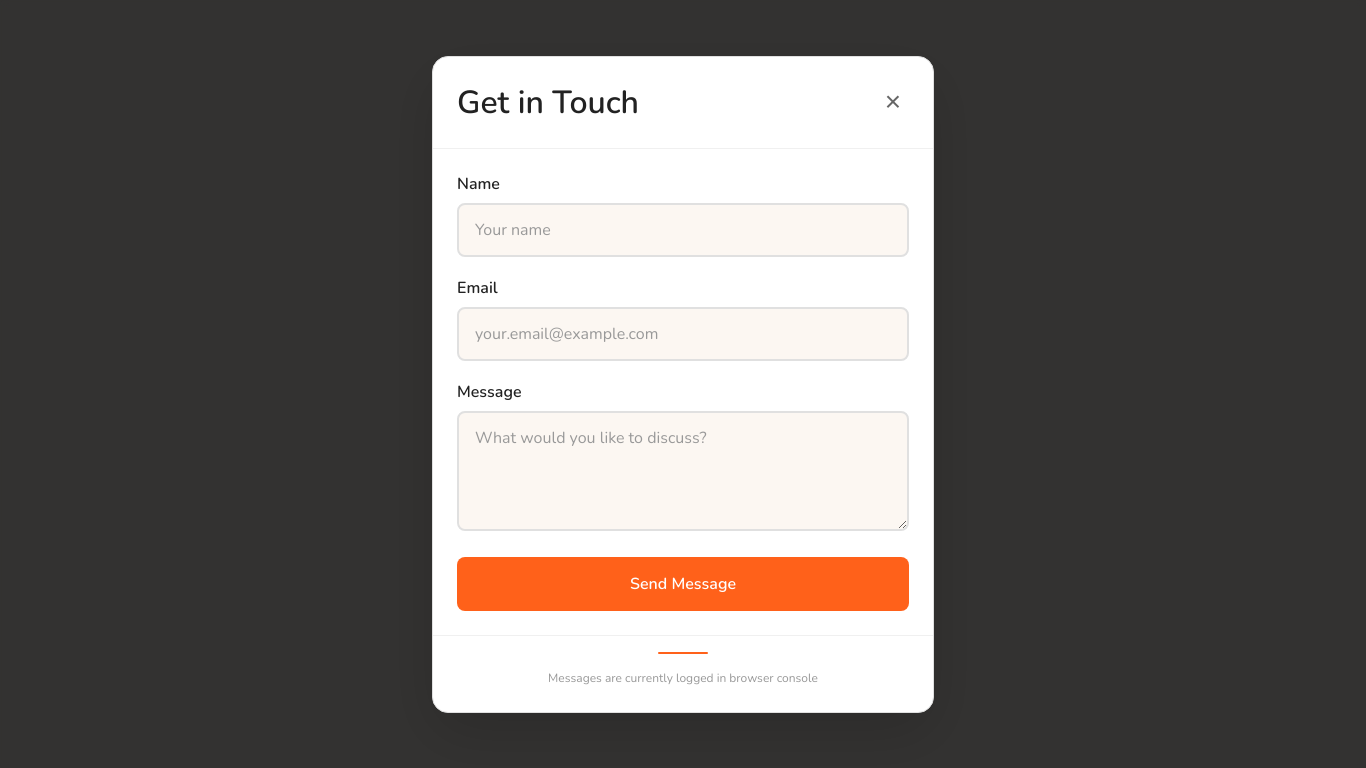
Test case: ContactModal Component › should show loading state during submission
Type "John Doe" into the field labelled "Name" at {"x": 683, "y": 230}, box [457,202,909,256]
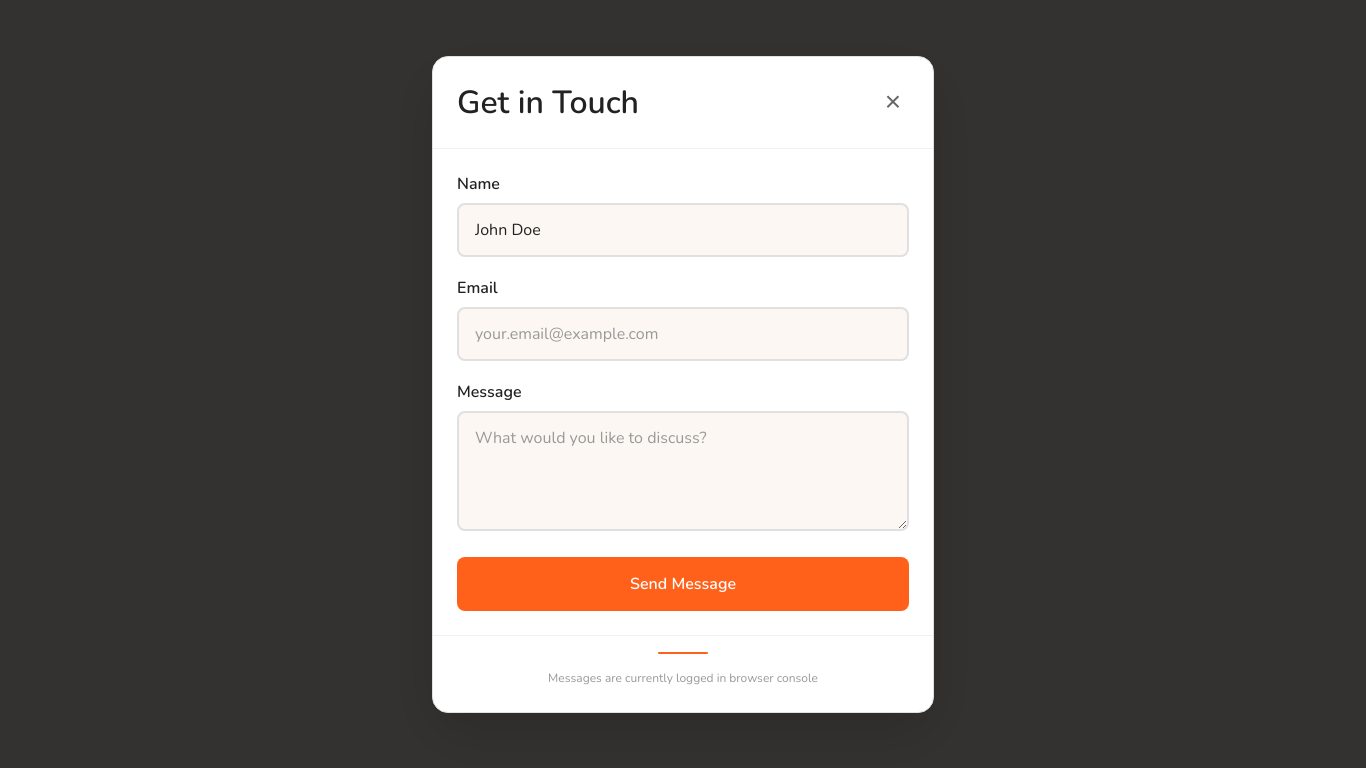
Type "john@example.com" into the field labelled "Email" at {"x": 683, "y": 334}, box [457,306,909,360]
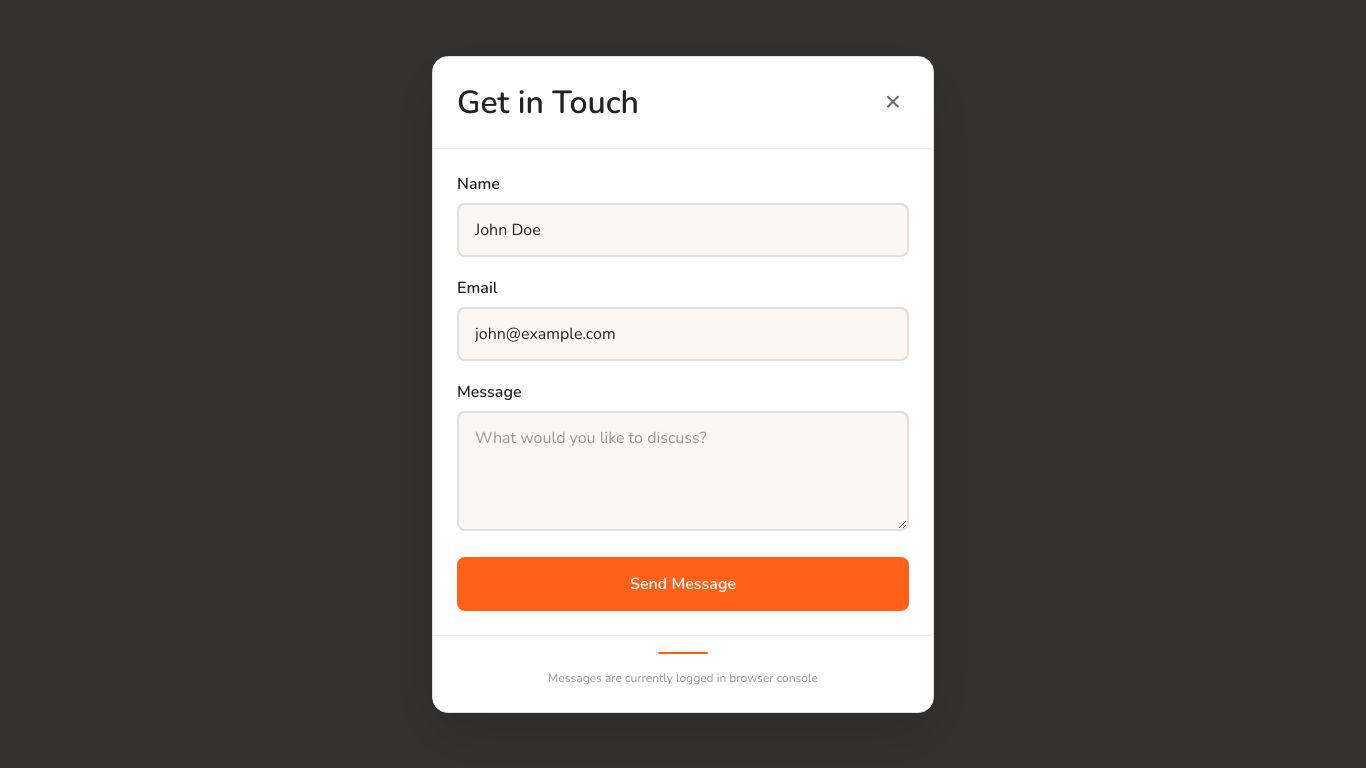
Type "Test" into the text box labelled "Message" at {"x": 683, "y": 470}, box [457,410,909,530]
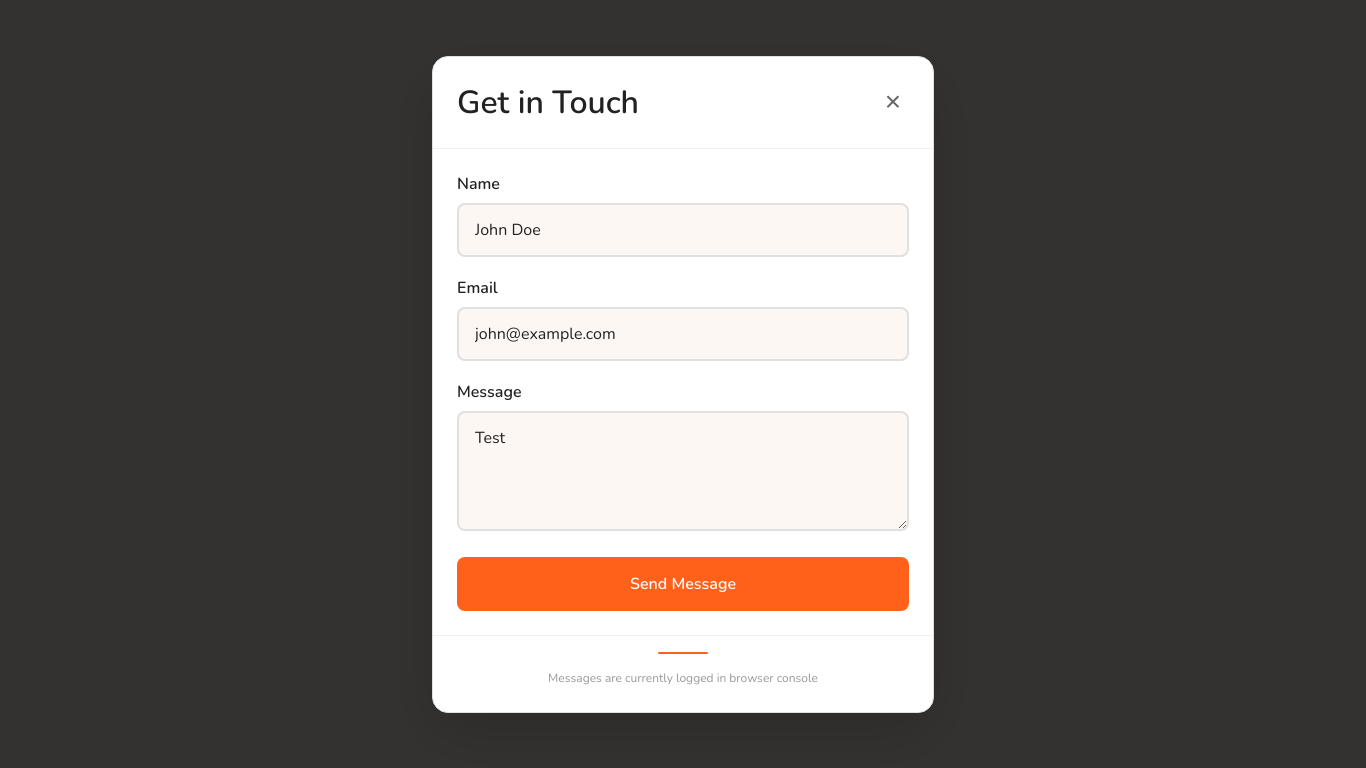
Click the button "Send Message" at {"x": 683, "y": 584}, box [457,556,909,610]
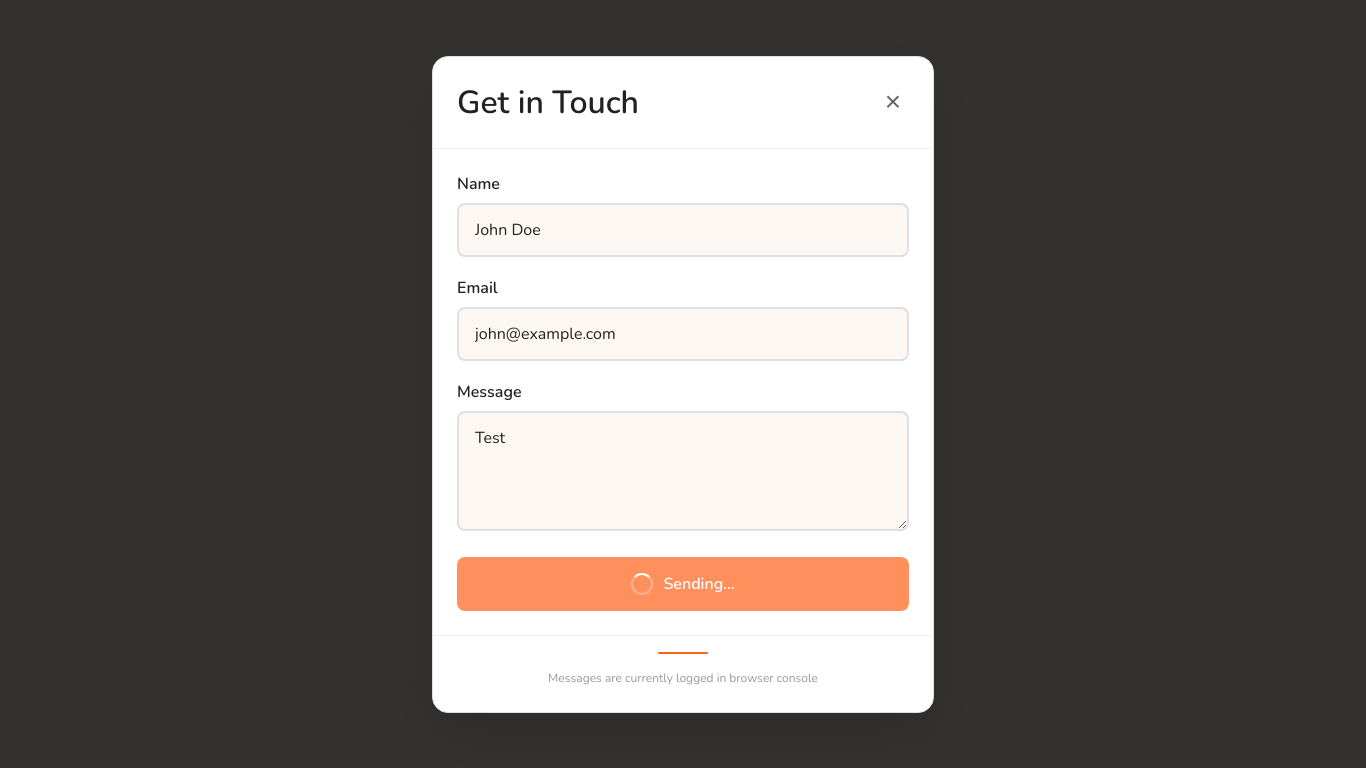
Expected: the button "Sending..." is shown, [457,556,909,610]
